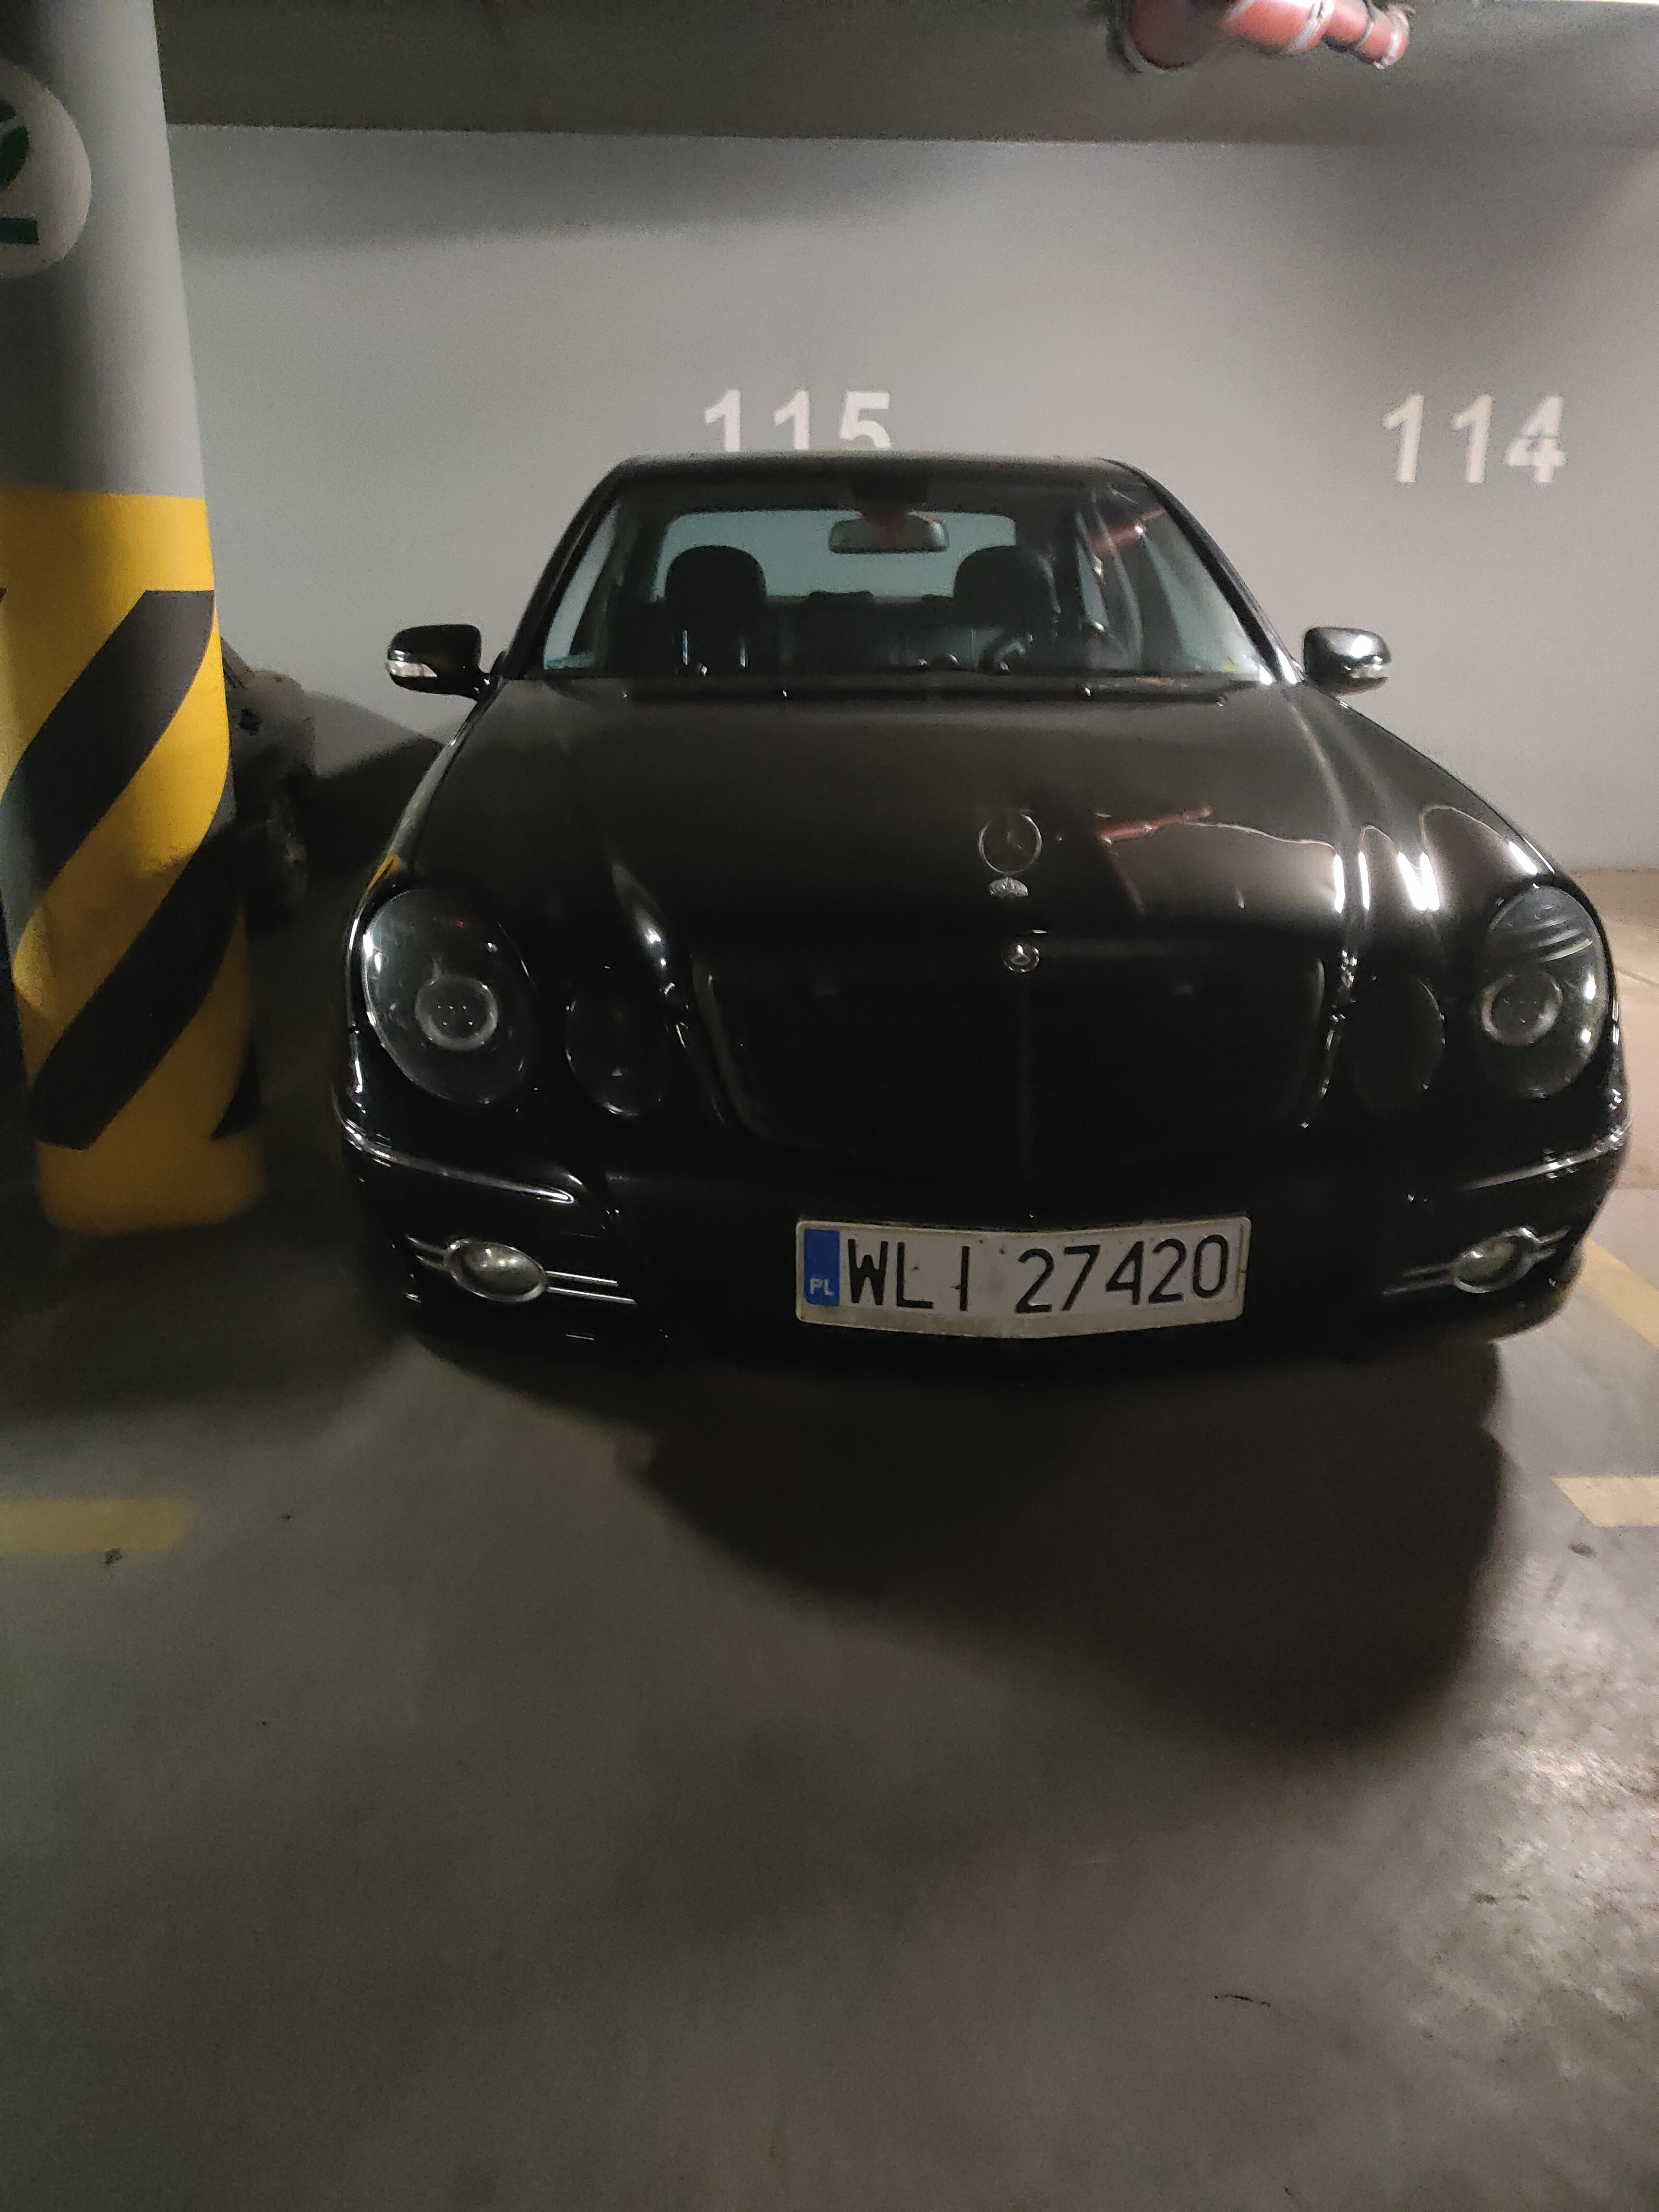number_plate: (791, 1214, 1250, 1344)
